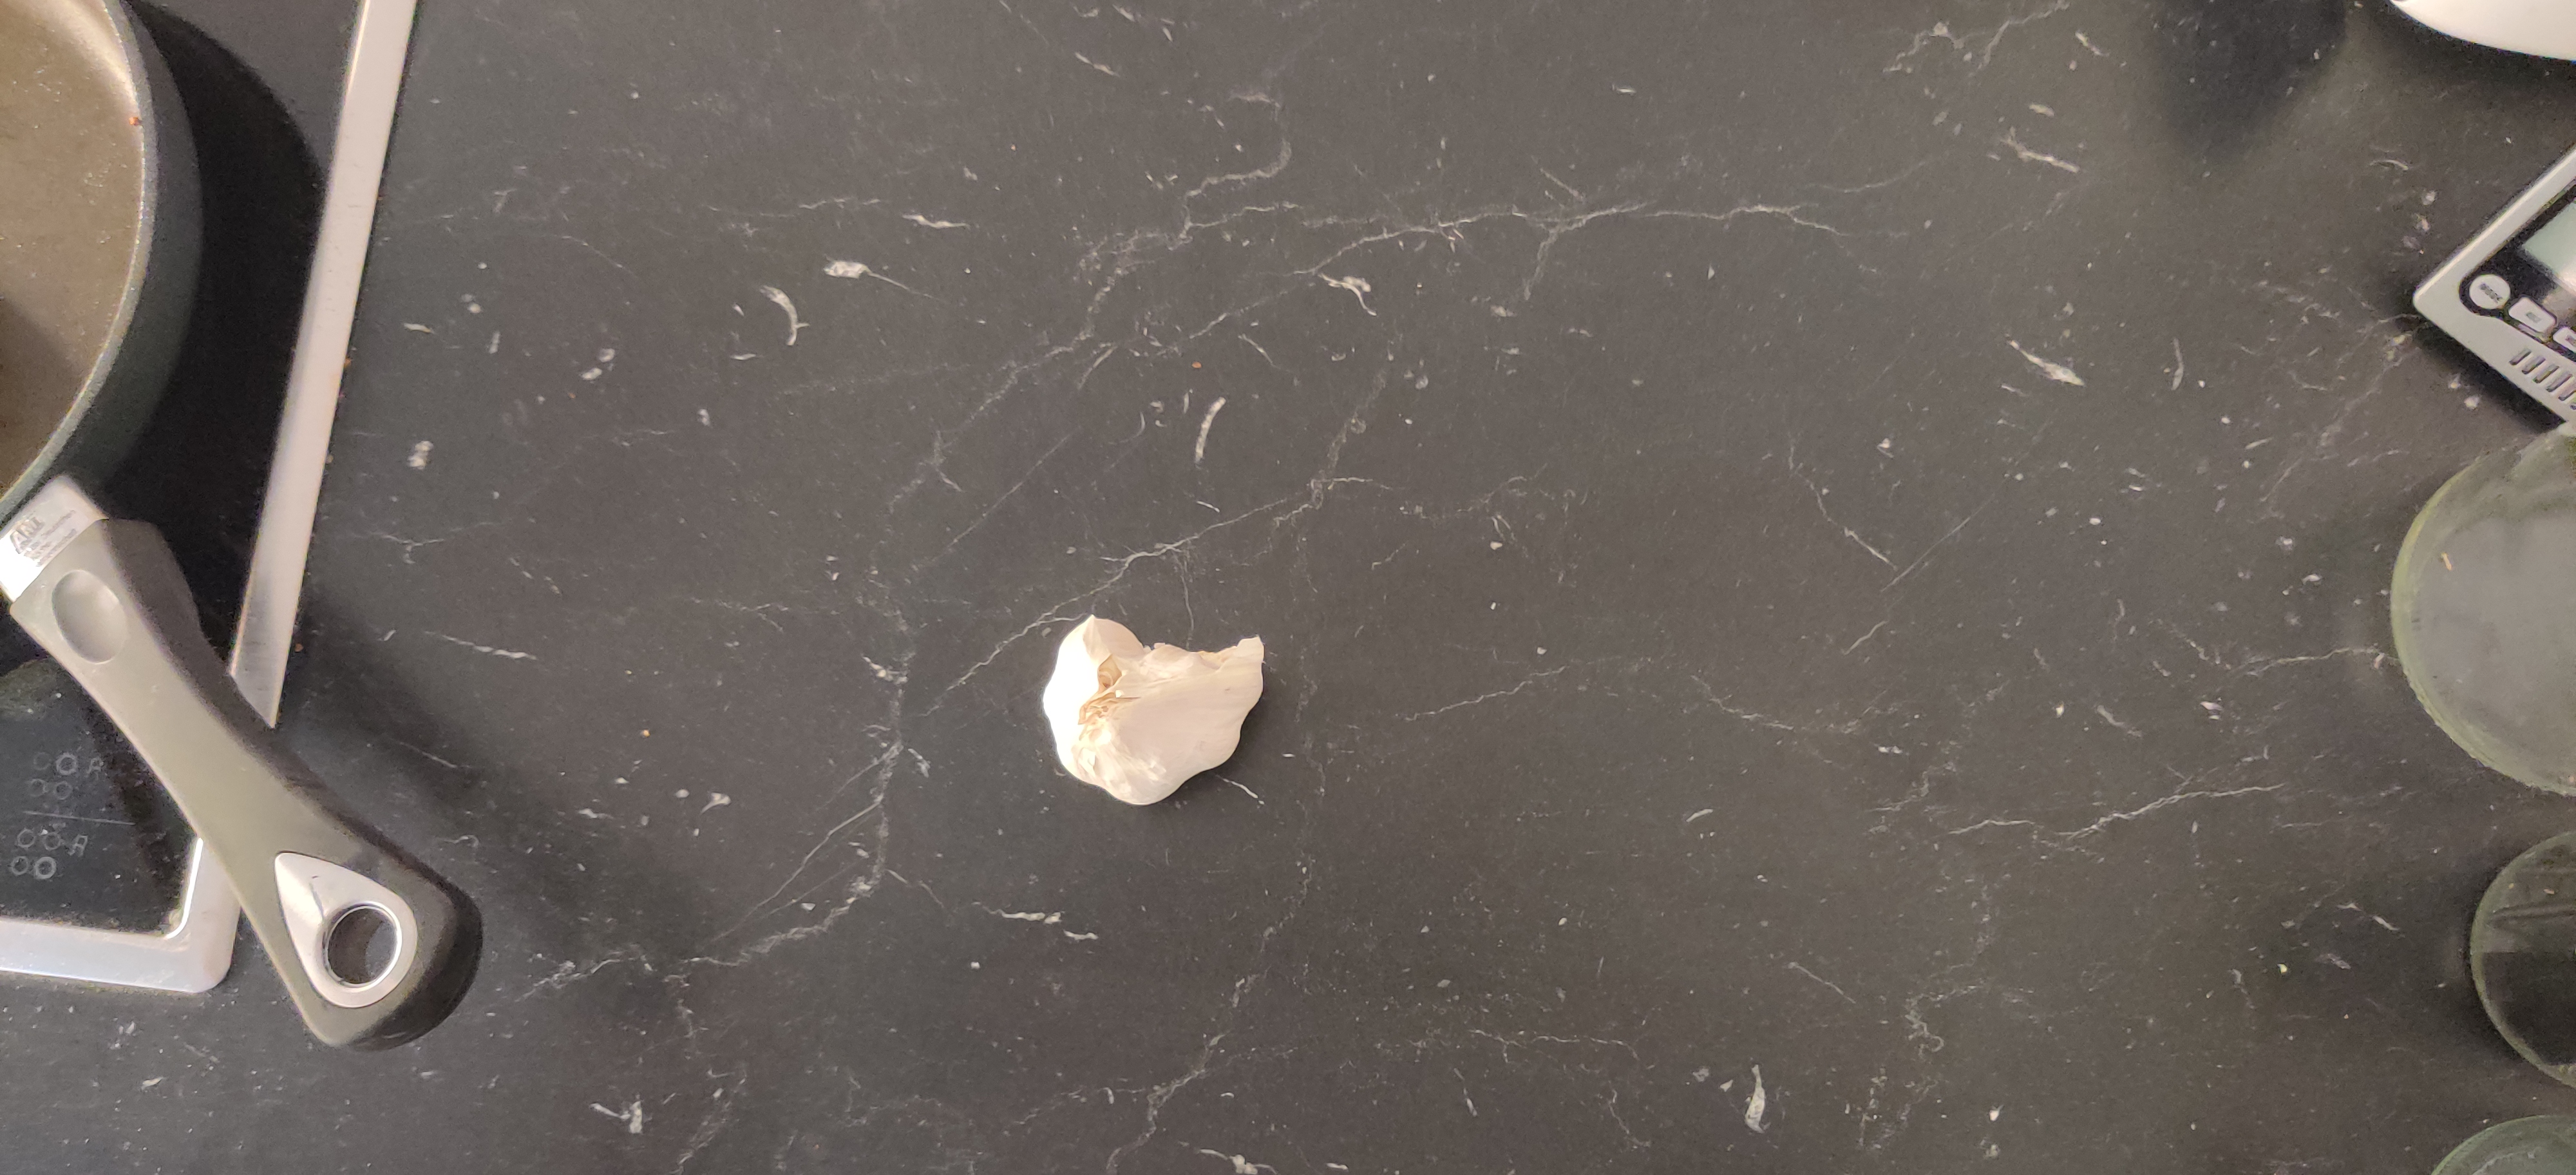Knoblauch: (1043, 613, 1263, 805)
